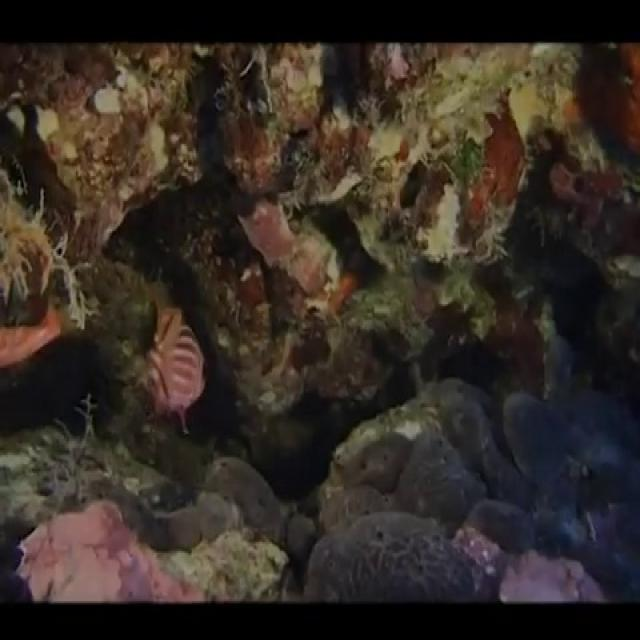Asker Baligi: (139, 314, 216, 402)
